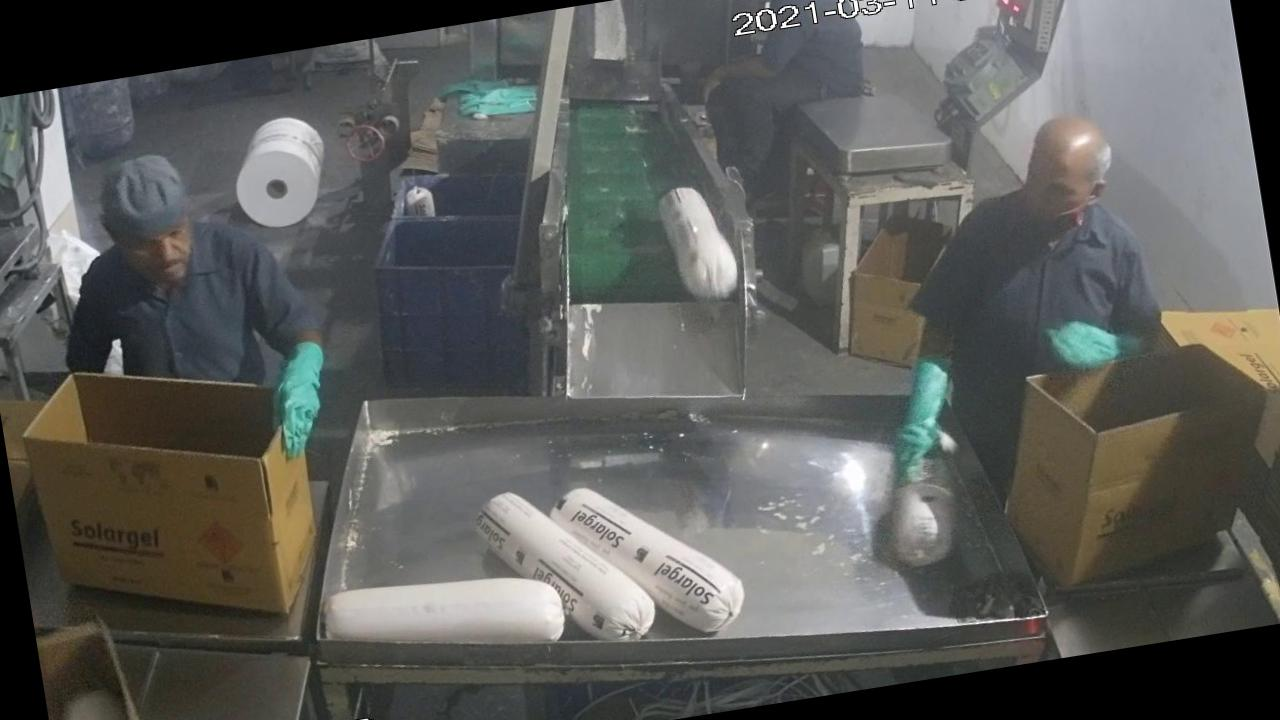Gloves: (861, 334, 972, 493), (250, 334, 347, 470), (1036, 306, 1146, 393)
No-gloves: (682, 38, 801, 113)
